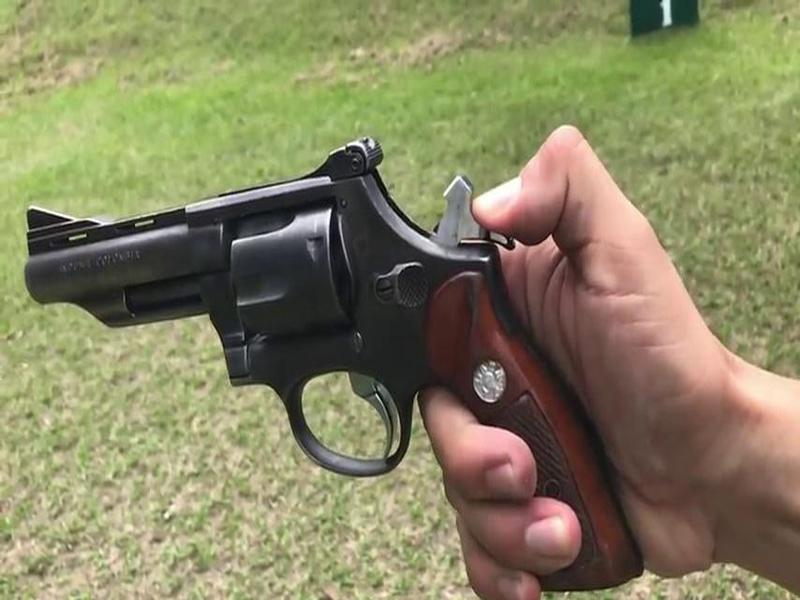Revolver: (17, 134, 663, 578)
